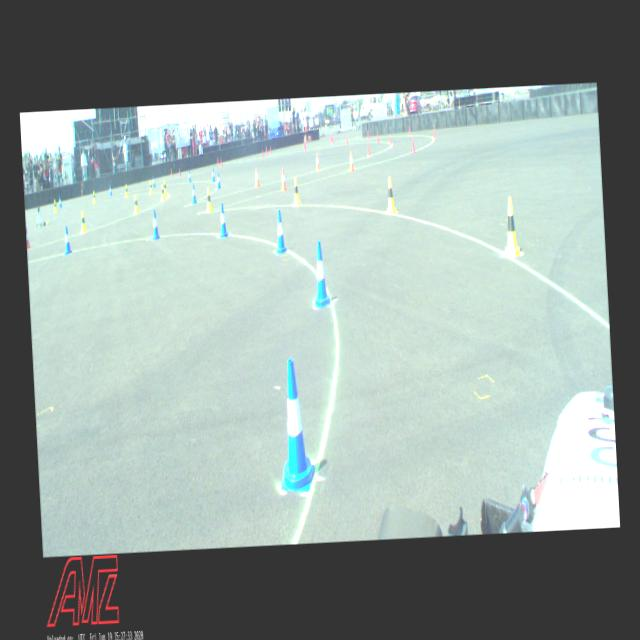blue_cone: (274, 358, 316, 495), (311, 241, 331, 309), (274, 209, 287, 253), (218, 202, 228, 238), (63, 225, 72, 254), (152, 210, 160, 240), (191, 184, 197, 204), (216, 172, 221, 189), (212, 168, 216, 183), (152, 175, 156, 188), (188, 170, 192, 182), (58, 196, 62, 208), (110, 185, 112, 197)
orange_cone: (280, 168, 287, 192), (348, 151, 354, 171), (254, 168, 260, 188), (26, 227, 31, 250), (315, 154, 320, 172)
unknown_cone: (366, 142, 371, 158), (412, 138, 416, 153), (388, 134, 392, 146), (408, 125, 411, 137), (376, 131, 379, 142), (434, 126, 436, 140), (346, 136, 348, 146), (368, 130, 370, 140), (262, 150, 264, 159), (220, 158, 222, 167), (270, 146, 272, 155), (266, 145, 268, 154), (304, 142, 306, 151), (179, 168, 181, 176), (217, 157, 219, 165), (332, 136, 334, 144), (170, 168, 172, 175)
yellow_cone: (502, 196, 520, 258), (385, 176, 396, 214), (292, 176, 300, 205), (205, 187, 212, 212), (80, 210, 87, 232), (133, 194, 139, 214), (160, 183, 166, 201), (162, 180, 168, 194), (92, 190, 96, 203), (148, 180, 152, 193), (125, 184, 128, 197), (54, 199, 56, 212)
